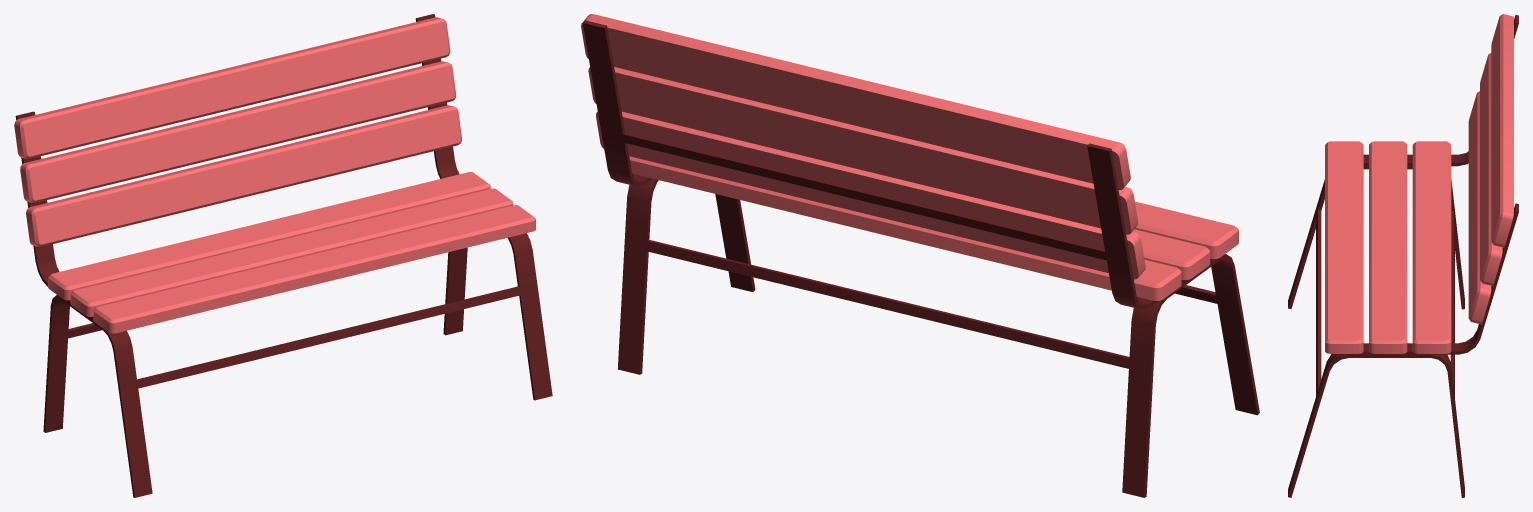
File: Other.fbx
The picture shows the model from 3 angles, left to right: view 1: azimuth 30°, elevation 25°; view 2: azimuth 150°, elevation 25°; view 3: azimuth 270°, elevation 25°; orthographic projection. The views are drawn at different scales.
Visible parts, largest first — view 1: Street_Bench; view 2: Street_Bench; view 3: Street_Bench.
Part boxes in pixels (box(x1,y1,x2,y2)): Street_Bench: box(14, 14, 552, 497); Street_Bench: box(581, 14, 1259, 497); Street_Bench: box(1288, 14, 1518, 497).
Size of the model in its own units: 260 by 173 by 126.
